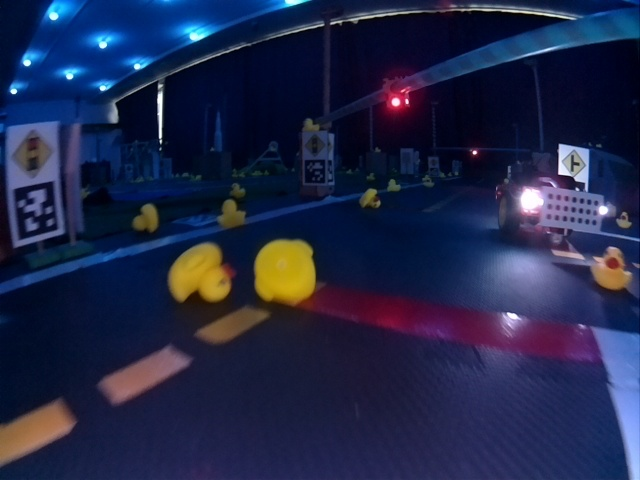Duckie: (255, 239, 315, 303), (169, 242, 232, 301), (592, 248, 628, 290), (219, 200, 244, 227), (133, 206, 158, 232), (362, 188, 381, 207), (230, 183, 246, 199), (616, 214, 632, 229), (304, 119, 317, 129), (387, 181, 398, 191), (424, 178, 434, 187)
Duckiebot: (496, 171, 606, 237)
Intersection sign: (559, 144, 589, 177)
QR code: (11, 184, 62, 242), (304, 161, 326, 184)
Signal sign: (8, 128, 58, 177), (303, 133, 326, 157)
Traffic light: (384, 78, 411, 110)
